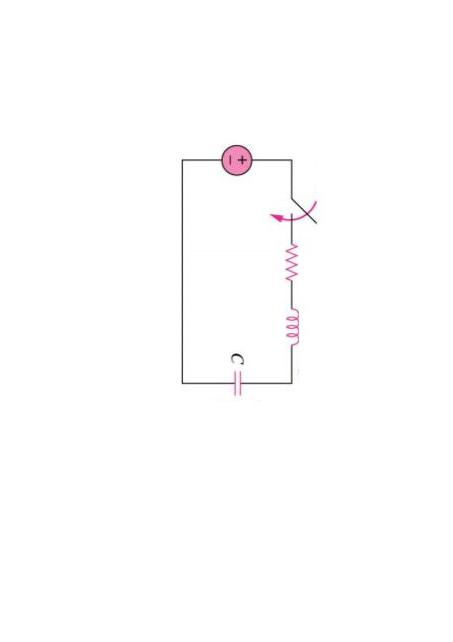resistor: (269, 232, 316, 292)
